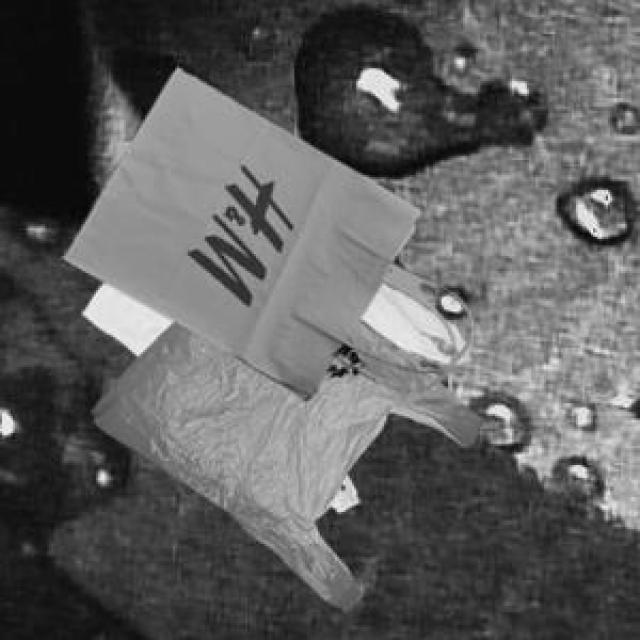paper: (60, 64, 457, 397)
